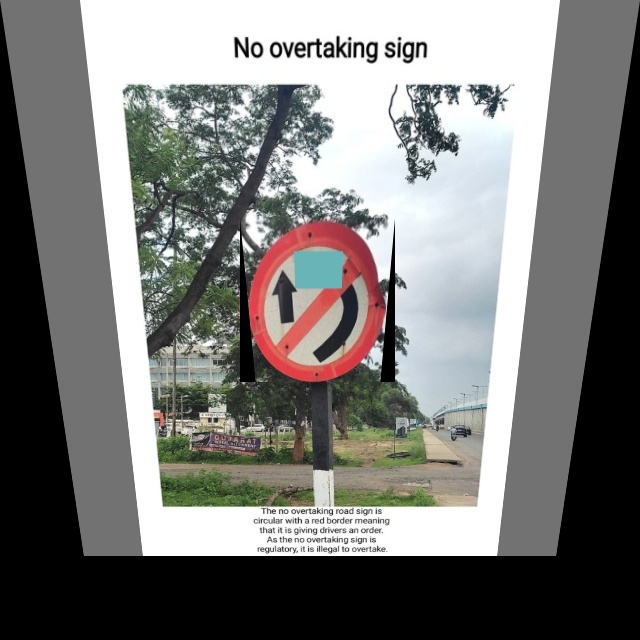Overtaking_Prohibited: (240, 218, 395, 382)
